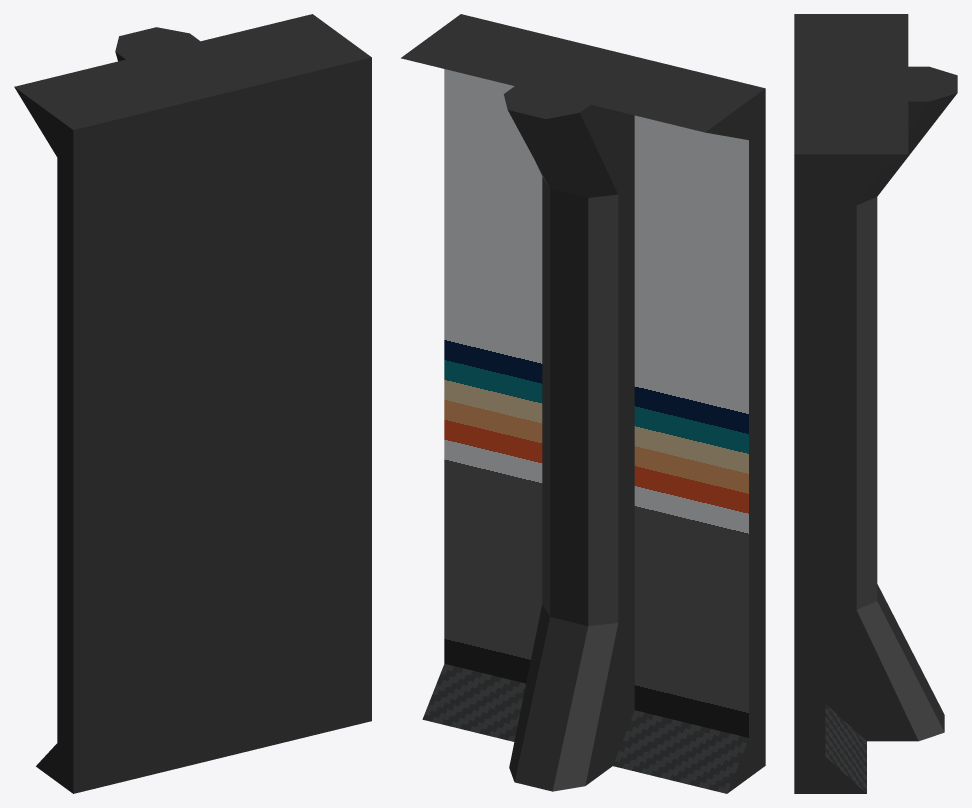
The model's file is CalShipWall5.gltf.
3 views of the same model, side by side, from view 1: azimuth 30°, elevation 25°; view 2: azimuth 150°, elevation 25°; view 3: azimuth 270°, elevation 25° (orthographic). The views are drawn at different scales.
Visible parts, largest first — view 1: mesh; view 2: mesh; view 3: mesh.
Boxes of the visible parts, x1,y1,x2,y2 form: mesh: [14, 14, 371, 793]; mesh: [401, 14, 765, 793]; mesh: [794, 14, 957, 793].
Bounding box in the file's own units: 1 × 2.12 × 0.4922.
1 material, 1 textured.
